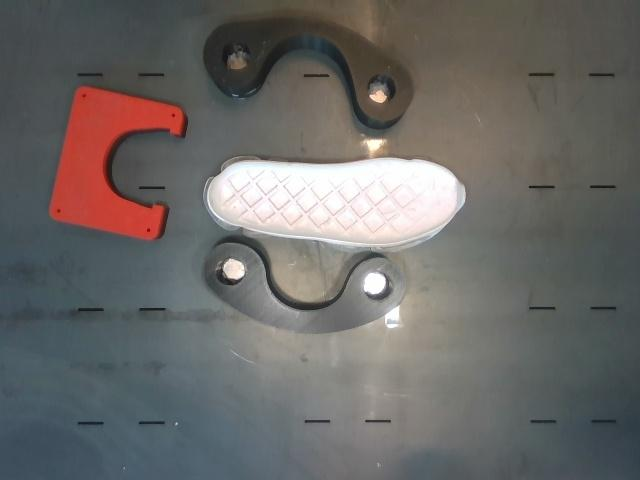shoes: (209, 162, 462, 244)
